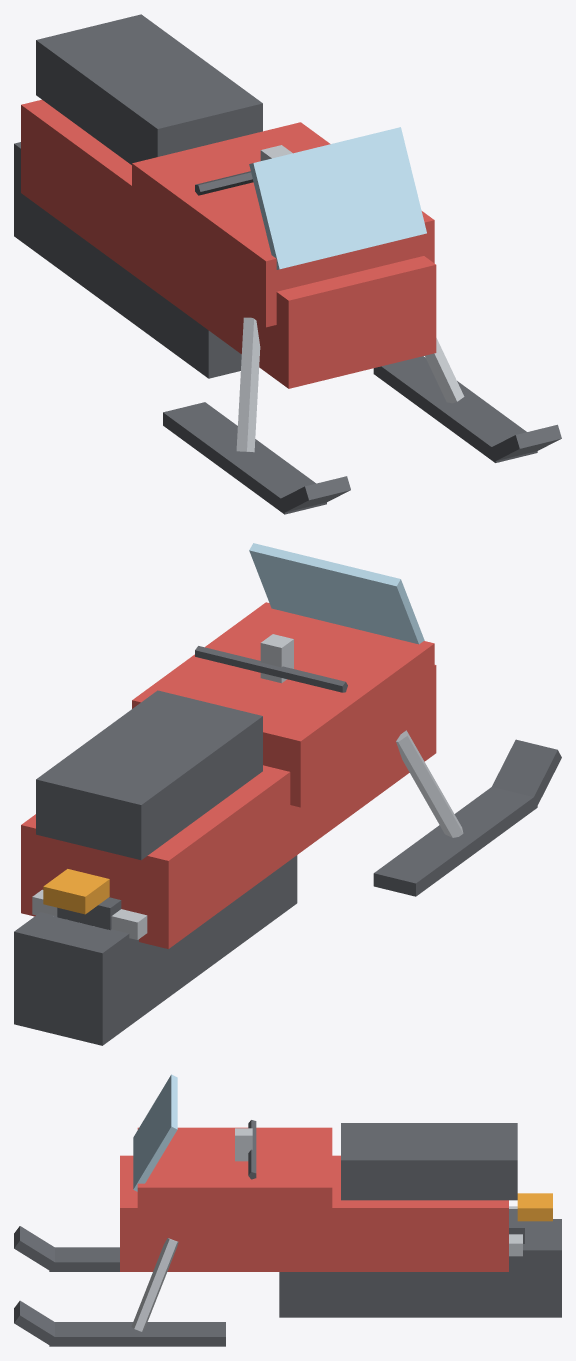
Rendered from ski-resort-and-snow-park-snowmobile-05331b3f__26005.glb.
3 views of the same model, one above another, from view 1: azimuth 30°, elevation 25°; view 2: azimuth 150°, elevation 25°; view 3: azimuth 270°, elevation 25° (orthographic). The views are drawn at different scales.
Visible parts, largest first — view 1: snowmobile; view 2: snowmobile; view 3: snowmobile.
Part boxes in pixels (x1,y1,x2,y2): snowmobile: (14, 14, 561, 514); snowmobile: (14, 543, 561, 1045); snowmobile: (14, 1074, 561, 1346).
Bounding box in the file's own units: 1.2 × 1.26 × 3.1.
